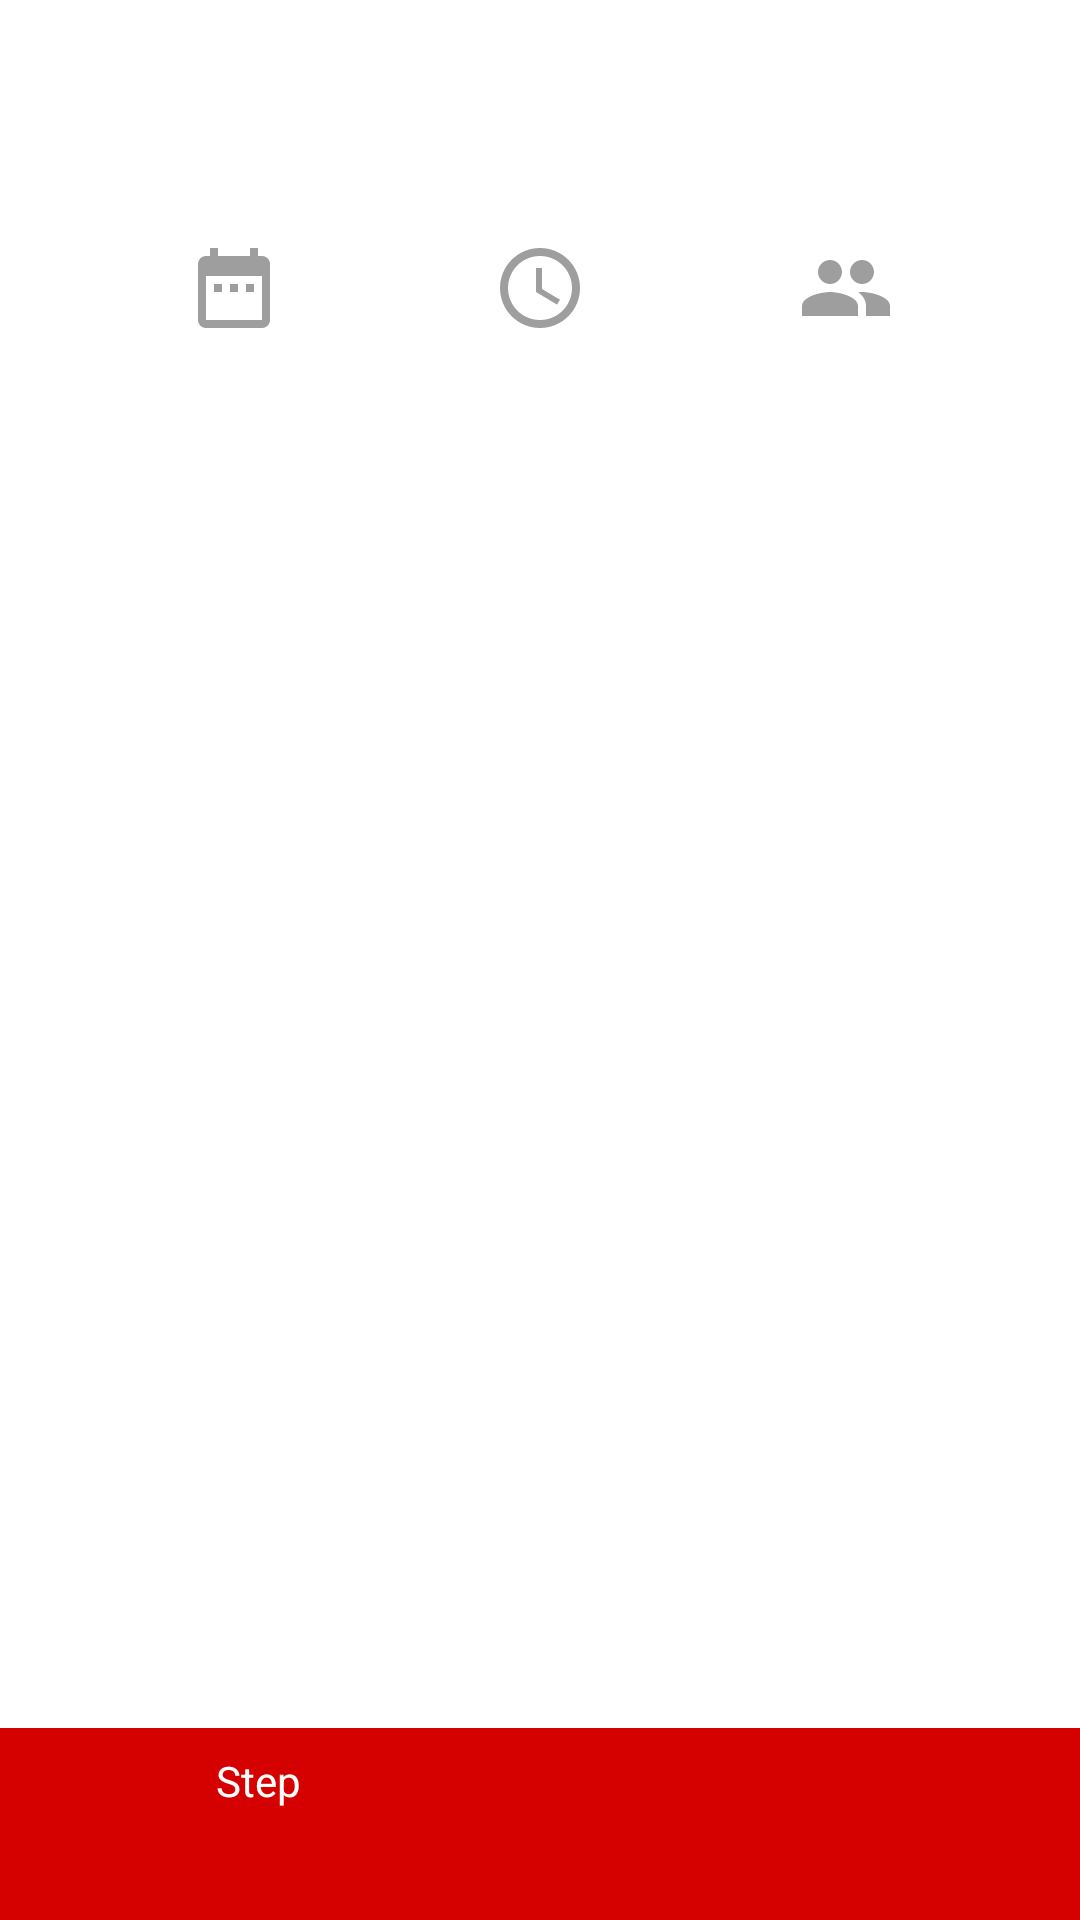

Icon click points for this 1080×1920 phone screenshot, format [x,y]:
calendar: [234,288]
clock: [540,288]
people: [846,288]
